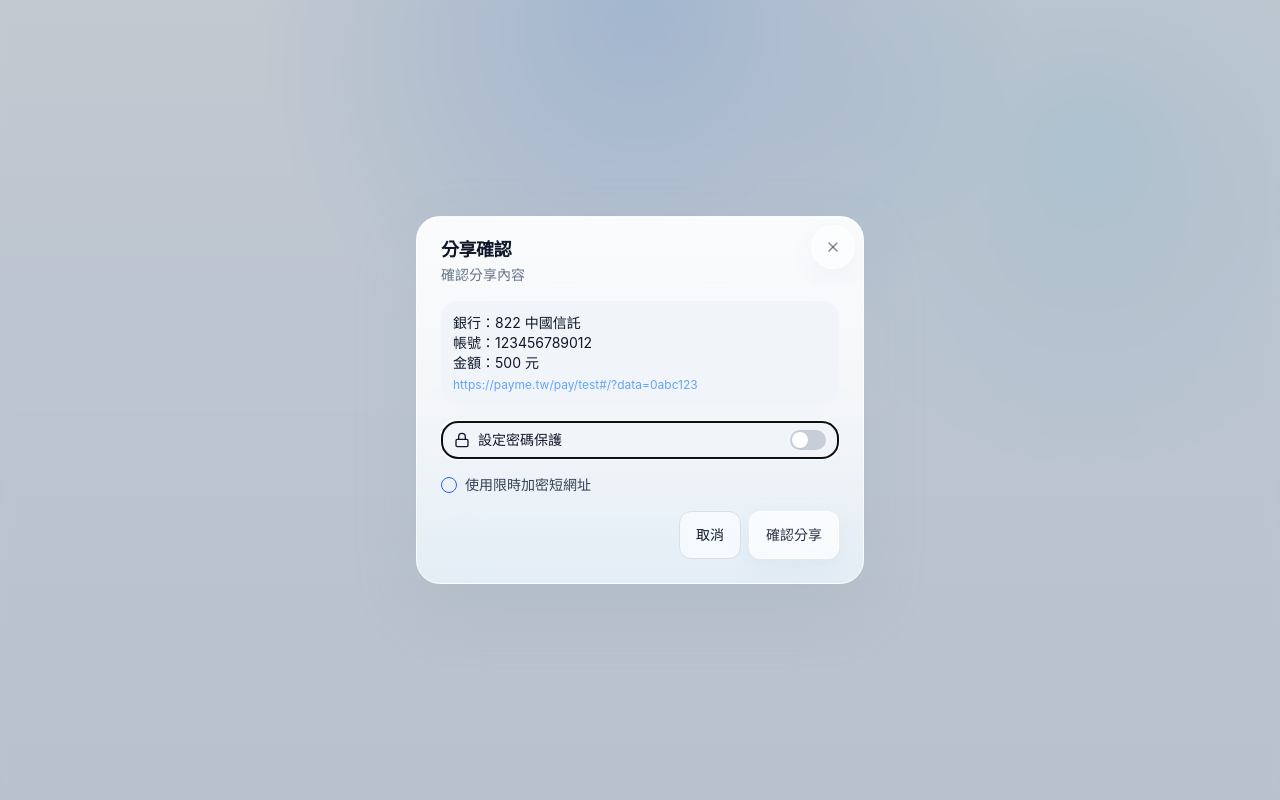
ShareConfirmDialog › 密碼保護 UI › 密碼輸入後確認按鈕應啟用
The width and height of the screenshot is (1280, 800).
Click the button "設定密碼保護" at x=520, y=440, box [441,421,839,459]
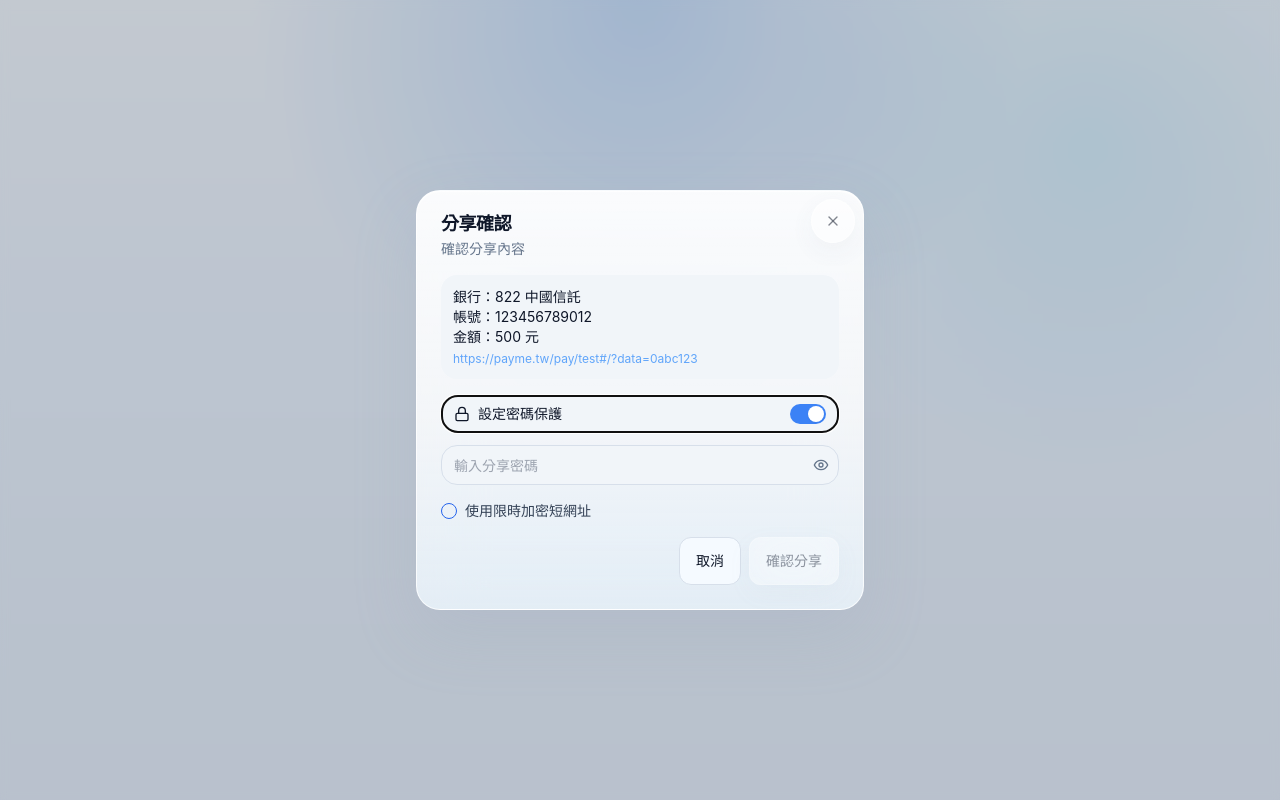
Type "secret123" into the password field with placeholder "輸入分享密碼" at x=640, y=465, box [441,445,839,485]
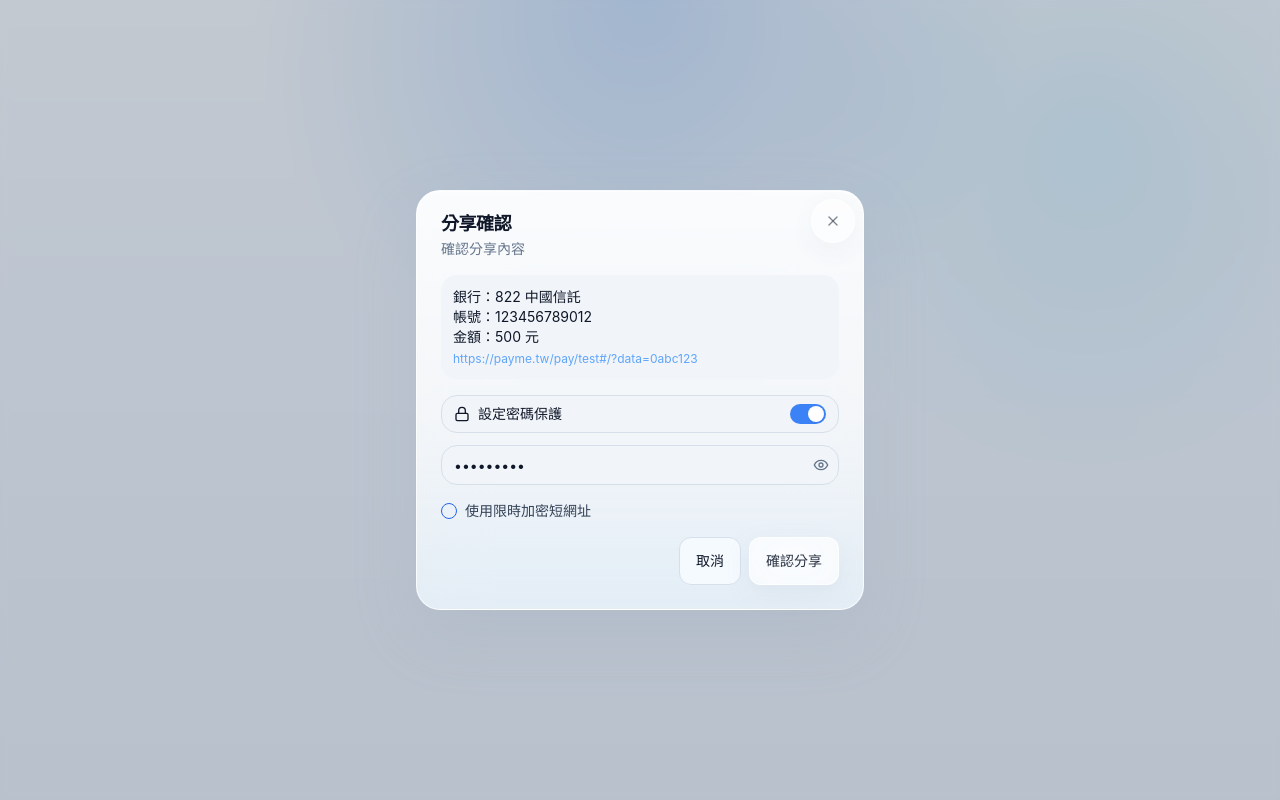
Check: the button "確認分享" is enabled, box [749,537,839,585]
